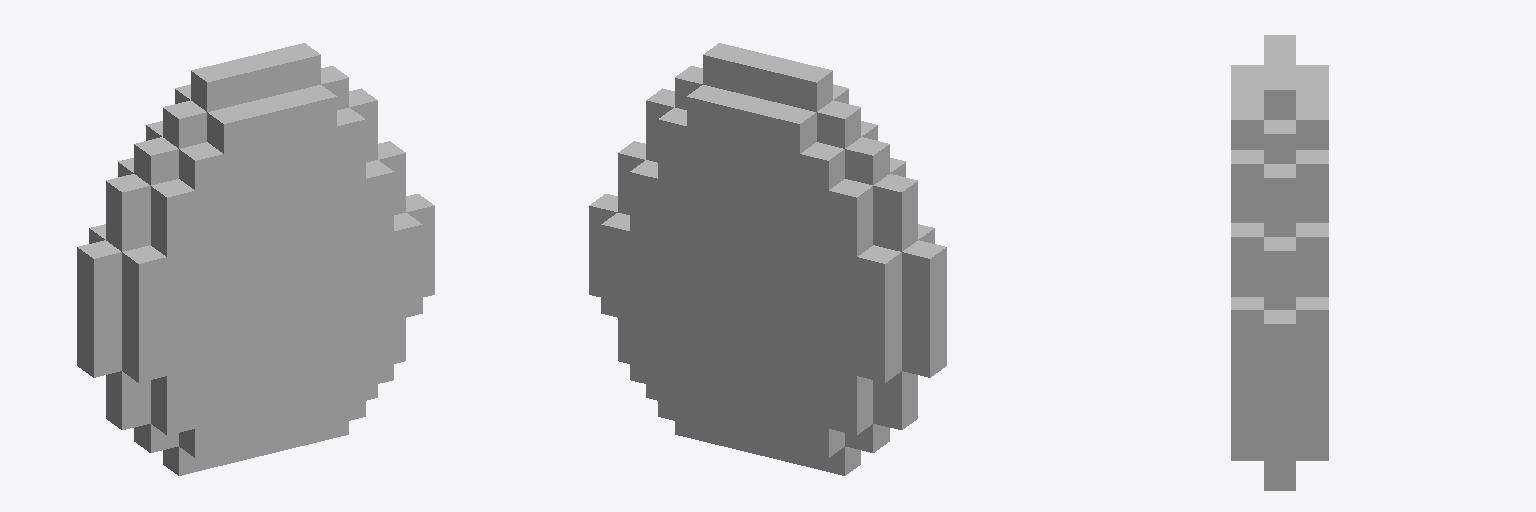
The model's file is diamond.obj.
The picture shows the model from 3 angles: view 1: azimuth 30°, elevation 25°; view 2: azimuth 150°, elevation 25°; view 3: azimuth 270°, elevation 25°; orthographic projection.
Visible parts, largest first — view 1: object 1; view 2: object 1; view 3: object 1.
Boxes of the visible parts, x1,y1,x2,y2 form: object 1: [77, 43, 434, 475]; object 1: [589, 43, 946, 475]; object 1: [1231, 35, 1328, 490].
Bounding box in the file's own units: 1.2 × 1.3 × 0.3.